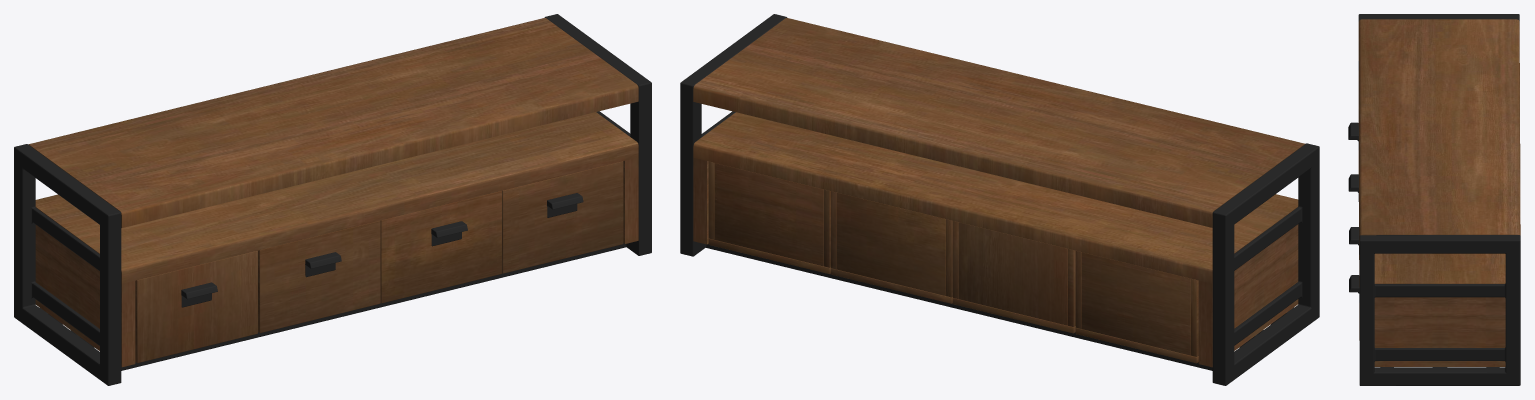
3 views of the same model, side by side, from view 1: azimuth 30°, elevation 25°; view 2: azimuth 150°, elevation 25°; view 3: azimuth 270°, elevation 25° (orthographic). The views are drawn at different scales.
Parts seen in each view (by area): view 1: Cube.007, Cube.009, Cube.002, Cube.015, Cube.010, Cube.008, Cube.020, Cube.004, Plane.001, Plane, Plane.002, Plane.003; view 2: Cube.007, Cube.009, Cube.002, Cube.018, Cube.005, Cube.013, Cube.023, Cube.004, Cube.011, Cube.016, Cube.021, Cube.001 (+8 smaller); view 3: Cube.007, Cube.002, Cube.004, Cube.009, Plane.002, Plane.003, Plane, Plane.001.
Boxes of the visible parts, x1,y1,x2,y2 form: Cube.007: (28, 18, 638, 227); Cube.009: (35, 112, 638, 283); Cube.002: (14, 14, 651, 385); Cube.015: (258, 221, 380, 333); Cube.010: (135, 251, 257, 363); Cube.008: (502, 161, 623, 273); Cube.020: (380, 191, 501, 303); Cube.004: (35, 157, 638, 367); Plane.001: (305, 252, 341, 277); Plane: (181, 282, 217, 307); Plane.002: (431, 221, 467, 246); Plane.003: (547, 193, 583, 217); Cube.007: (693, 18, 1305, 227); Cube.009: (693, 112, 1298, 283); Cube.002: (680, 14, 1319, 385); Cube.018: (958, 222, 1067, 325); Cube.005: (714, 163, 823, 266); Cube.013: (1081, 252, 1190, 355); Cube.023: (836, 192, 945, 295); Cube.004: (693, 157, 1298, 367); Cube.011: (1075, 328, 1198, 363); Cube.016: (952, 298, 1075, 333); Cube.021: (830, 268, 952, 303); Cube.001: (708, 238, 830, 274); Cube.007: (1358, 19, 1520, 235); Cube.002: (1358, 14, 1520, 385); Cube.004: (1374, 297, 1505, 366); Cube.009: (1358, 71, 1505, 283); Plane.002: (1349, 227, 1359, 254); Plane.003: (1349, 275, 1359, 302); Plane: (1348, 122, 1358, 149); Plane.001: (1348, 174, 1358, 201).
Size of the model in its own units: 200 by 60 by 64.18.
Materials: 2 (1 with a texture image).
